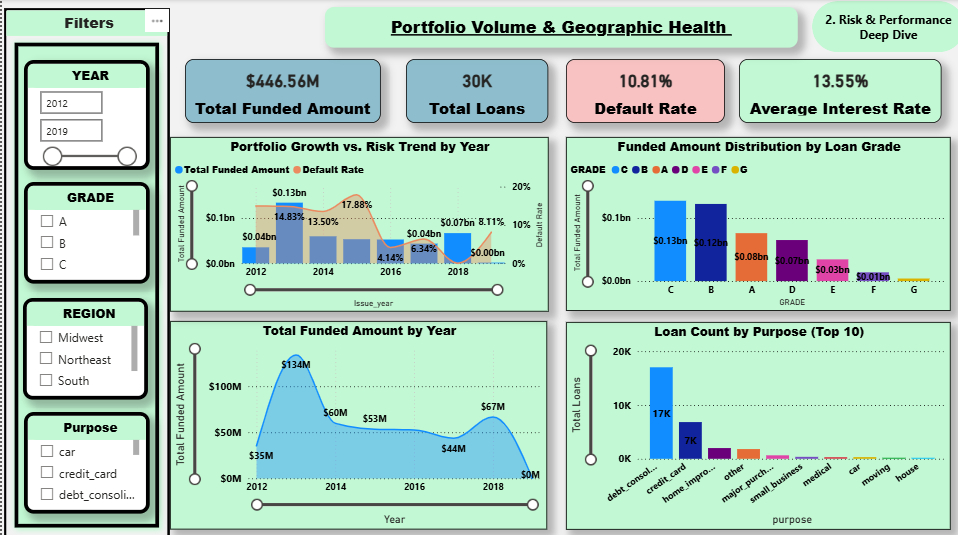

The page's visual inventory and layout, read from the dashboard file:
{"tool":"powerbi","page":{"name":"1. Executive Summary","canvas":[1280,720],"ordinal":1},"visuals":[{"type":"shape","title":"Filters","box":[2.9,11.4,220,704.3],"z":0},{"type":"slicer","title":"YEAR","fields":{"Values":["loan_cleaned.Issue_year"]},"box":[29.2,80.6,166.7,145.8],"z":1000},{"type":"card","fields":{"Values":["Dax.Total Funded Amount"]},"box":[243.1,79.2,259.7,84.7],"z":2000},{"type":"card","fields":{"Values":["Dax.Total Loans"]},"box":[536.1,79.2,188.9,84.7],"z":3000},{"type":"card","fields":{"Values":["Dax.Default Rate"]},"box":[748.6,79.2,211.1,84.7],"z":4000},{"type":"card","fields":{"Values":["Dax.Average Interest Rate"]},"box":[979.2,79.2,269.4,84.7],"z":5000},{"type":"lineChart","fields":{"Category":["loan_cleaned.issue_date.Variation.Date Hierarchy.Year","loan_cleaned.issue_date.Variation.Date Hierarchy.Month"],"Y":["Dax.Total Funded Amount"]},"box":[222.9,427.1,501.4,277.1],"z":6000},{"type":"columnChart","title":"Loan Count by Purpose (Top 10)","fields":{"Category":["loan_purposes.purpose"],"Y":["Dax.Total Loans"],"Series":["loan_purposes.purpose"]},"box":[748.6,428.6,511.4,275.7],"z":7000},{"type":"slicer","title":"GRADE","fields":{"Values":["loan_cleaned.GRADE"]},"box":[29.2,243.1,166.7,134.7],"z":8000},{"type":"slicer","title":"REGION","fields":{"Values":["state_region.REGION "]},"box":[28.1,396.7,166,135],"z":9000},{"type":"slicer","title":"Purpose","fields":{"Values":["loan_purposes.purpose"]},"box":[29.2,548.6,166.7,134.7],"z":10000},{"type":"textbox","box":[429.2,11.1,627.8,54.2],"z":11000},{"type":"lineClusteredColumnComboChart","title":"Portfolio Growth vs. Risk Trend by Year","fields":{"Category":["loan_cleaned.Issue_year"],"Y":["Dax.Total Funded Amount"],"Y2":["Dax.Default Rate"]},"box":[223.3,183,502.7,231.8],"z":13000},{"type":"columnChart","title":"Funded Amount Distribution by Loan Grade","fields":{"Y":["Dax.Total Funded Amount"],"Category":["loan_cleaned.GRADE"],"Series":["loan_cleaned.GRADE"]},"box":[748.6,182.9,511.4,231.4],"z":14000},{"type":"pageNavigator","box":[1076.6,2.9,203.4,68.3],"z":15000}]}

Visuals, with their boxes in screenshot pixels (x1, y1, x2, y2), scaled from the page's 1280x720 canvas onto the 958x535 screenshot:
"Filters" shape: l=2, t=8, r=167, b=532
"YEAR" slicer: l=22, t=60, r=147, b=168
card - Dax.Total Funded Amount: l=182, t=59, r=376, b=122
card - Dax.Total Loans: l=401, t=59, r=543, b=122
card - Dax.Default Rate: l=560, t=59, r=718, b=122
card - Dax.Average Interest Rate: l=733, t=59, r=934, b=122
lineChart - loan_cleaned.issue_date.Variation.Date Hierarchy.Year x loan_cleaned.issue_date.Variation.Date Hierarchy.Month: l=167, t=317, r=542, b=523
"Loan Count by Purpose (Top 10)" columnChart: l=560, t=318, r=943, b=523
"GRADE" slicer: l=22, t=181, r=147, b=281
"REGION" slicer: l=21, t=295, r=145, b=395
"Purpose" slicer: l=22, t=408, r=147, b=508
textbox: l=321, t=8, r=791, b=49
"Portfolio Growth vs. Risk Trend by Year" lineClusteredColumnComboChart: l=167, t=136, r=543, b=308
"Funded Amount Distribution by Loan Grade" columnChart: l=560, t=136, r=943, b=308
pageNavigator: l=806, t=2, r=957, b=53
